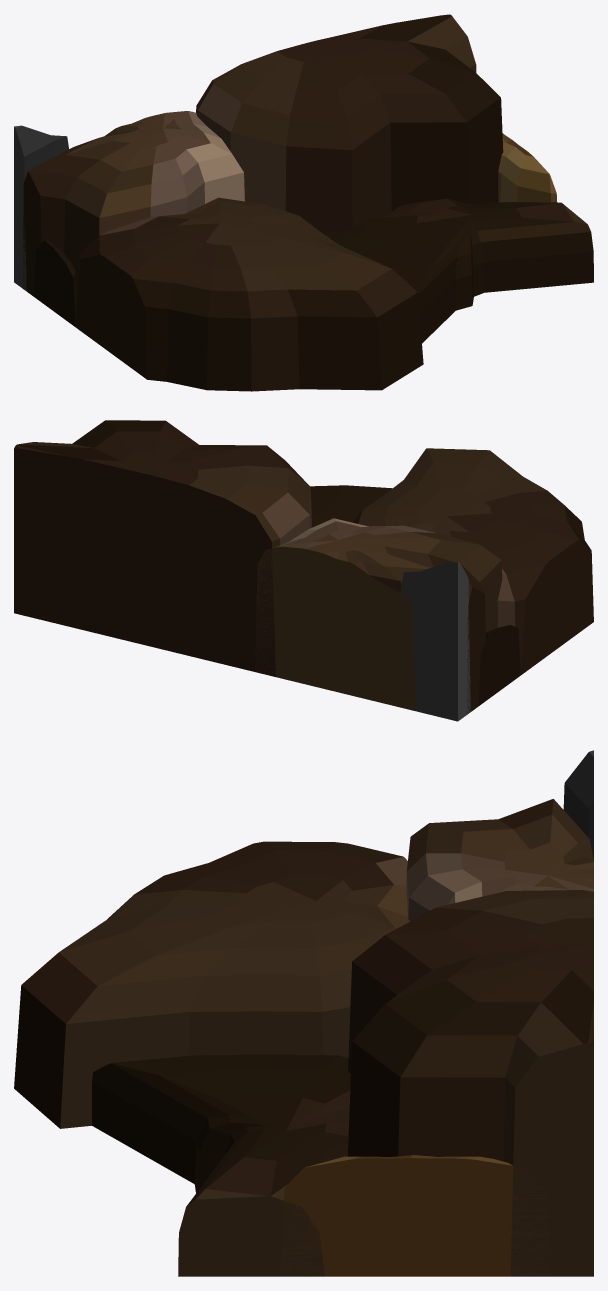
Rendered from newshr-269.glb.
The picture shows the model from 3 angles, top to bottom: view 1: azimuth 30°, elevation 25°; view 2: azimuth 150°, elevation 25°; view 3: azimuth 270°, elevation 25°; orthographic projection. The views are drawn at different scales.
Parts seen in each view (by area): view 1: newshr-269; view 2: newshr-269; view 3: newshr-269.
Part boxes in pixels (x1,y1,x2,y2): newshr-269: [14, 14, 593, 391]; newshr-269: [14, 420, 593, 721]; newshr-269: [14, 750, 593, 1276].
Bounding box in the file's own units: 2 × 0.7386 × 1.62.
